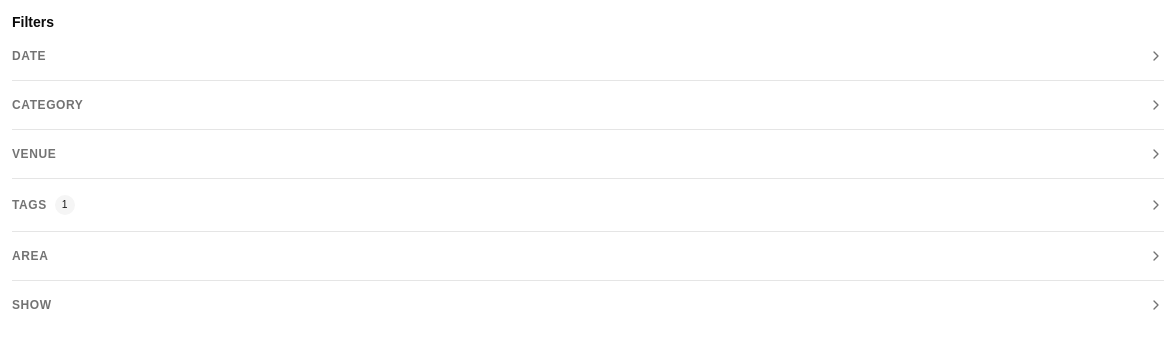
Test: tag filtering › announces an excluded tag as hidden
Click the button "Tags 1" at point(29, 205), box [12,191,1164,219]
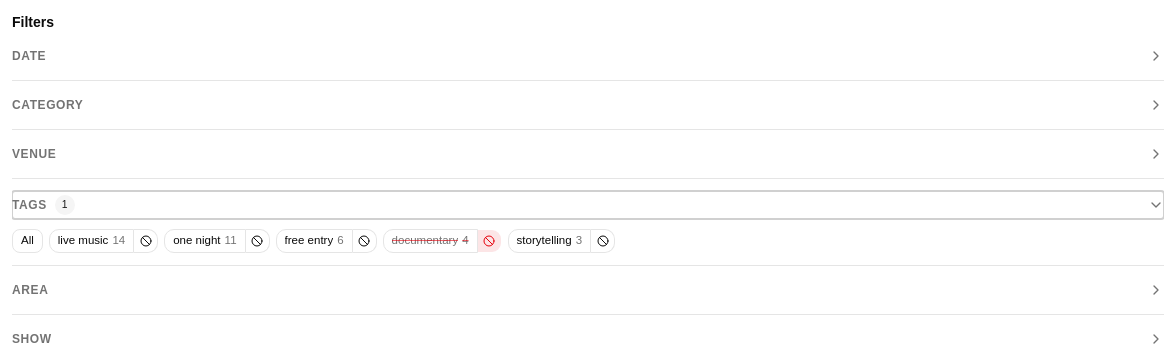
Now the button "documentary 4" is shown, box [383,229,478,253]
